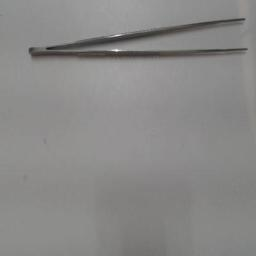DeBakey Dissector: (22, 8, 250, 80)
